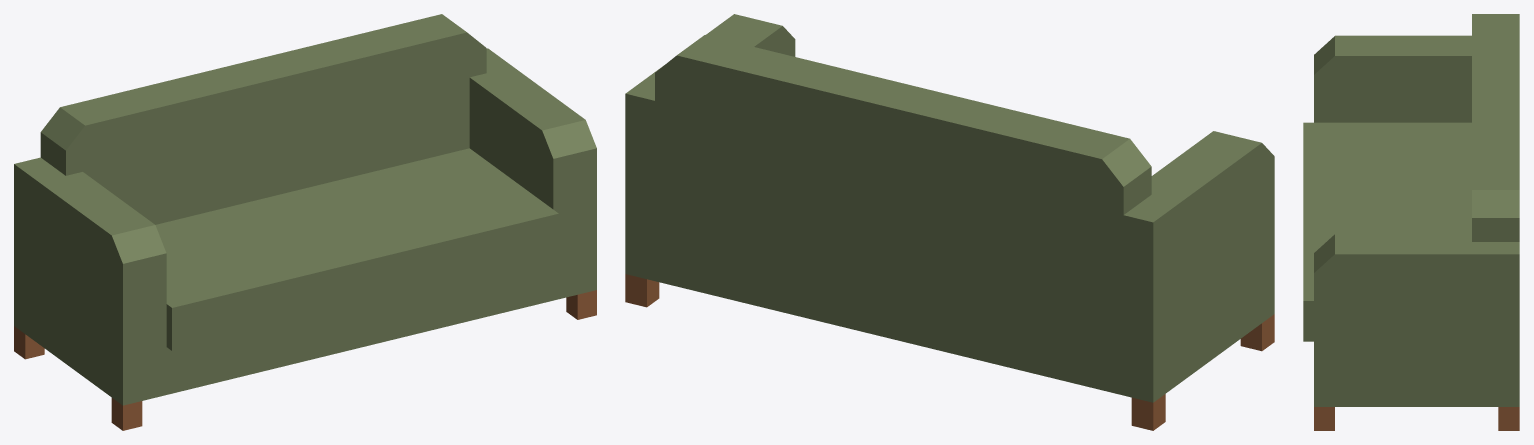
The model's file is loungeSofa.fbx.
The picture shows the model from 3 angles, left to right: view 1: azimuth 30°, elevation 25°; view 2: azimuth 150°, elevation 25°; view 3: azimuth 270°, elevation 25°; orthographic projection. The views are drawn at different scales.
Visible parts, largest first — view 1: loungeSofa.002; view 2: loungeSofa.002; view 3: loungeSofa.002.
Boxes of the visible parts, x1=… form: loungeSofa.002: x1=14, y1=14, x2=596, y2=430; loungeSofa.002: x1=625, y1=14, x2=1274, y2=430; loungeSofa.002: x1=1303, y1=14, x2=1519, y2=430.
Size of the model in its own units: 98 by 46 by 41.
